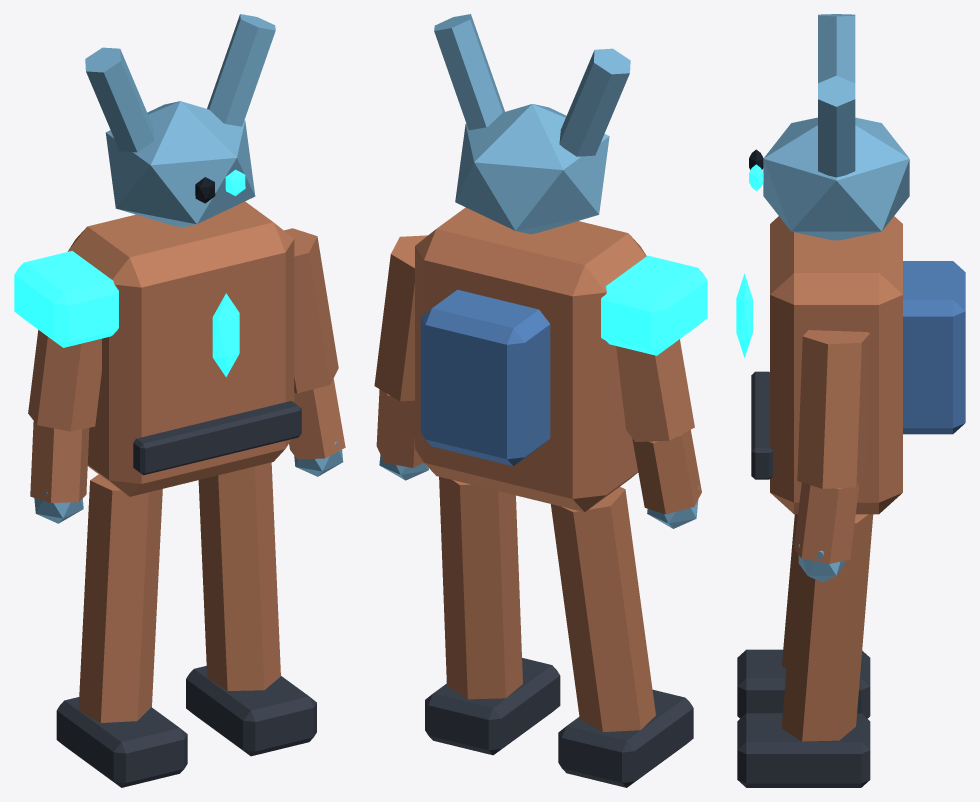
Rendered from npcs_039_seed11.glb.
The picture shows the model from 3 angles, left to right: view 1: azimuth 30°, elevation 25°; view 2: azimuth 150°, elevation 25°; view 3: azimuth 270°, elevation 25°; orthographic projection. The views are drawn at different scales.
Parts seen in each view (by area): view 1: npcs_039_seed11; view 2: npcs_039_seed11; view 3: npcs_039_seed11.
Part boxes in pixels (x1,y1,x2,y2): npcs_039_seed11: (14, 14, 345, 787); npcs_039_seed11: (374, 14, 707, 787); npcs_039_seed11: (736, 14, 965, 787).
Size of the model in its own units: 0.9846 by 2.13 by 0.6309.
